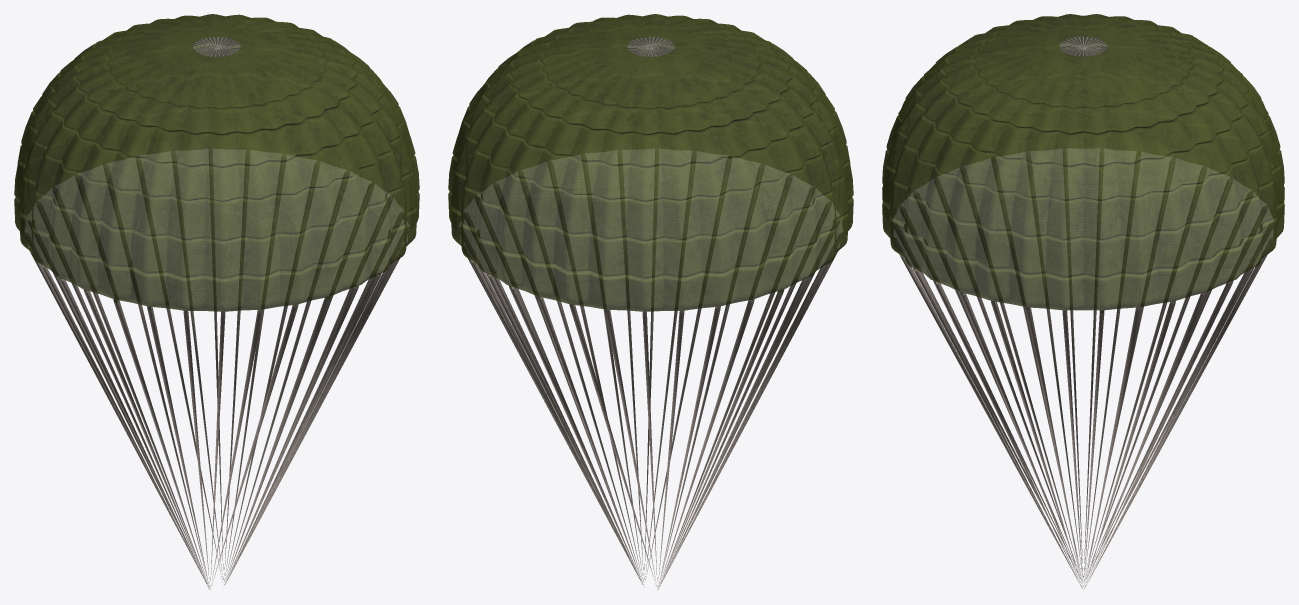
The model's file is parachute_circular.glb.
The picture shows the model from 3 angles, left to right: view 1: azimuth 30°, elevation 25°; view 2: azimuth 150°, elevation 25°; view 3: azimuth 270°, elevation 25°; orthographic projection.
Visible parts, largest first — view 1: pSphere1; view 2: pSphere1; view 3: pSphere1.
Boxes of the visible parts, <box> form: pSphere1: <box>14,14,419,589</box>; pSphere1: <box>448,14,853,589</box>; pSphere1: <box>882,14,1284,590</box>.
Bounding box in the file's own units: 1.35 × 2 × 1.35.
1 material, 1 textured.
